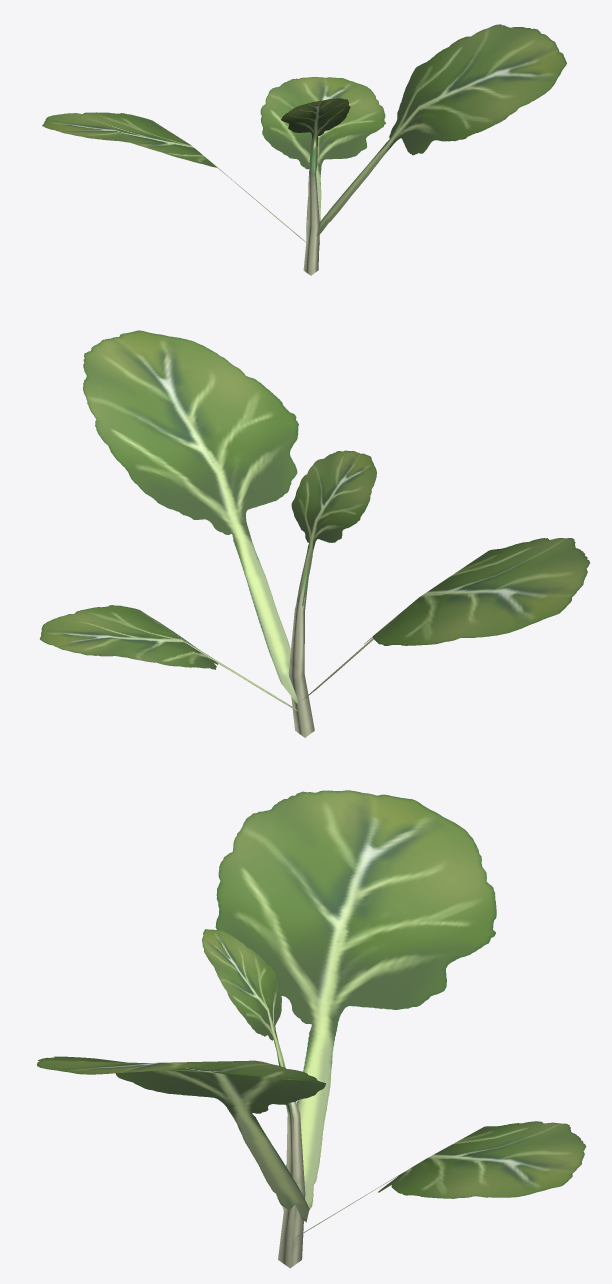
File: plant_cabbage_S1.fbx
The picture shows the model from 3 angles, top to bottom: view 1: azimuth 30°, elevation 25°; view 2: azimuth 150°, elevation 25°; view 3: azimuth 270°, elevation 25°; orthographic projection. The views are drawn at different scales.
Visible parts, largest first — view 1: plant_cabbage_S1; view 2: plant_cabbage_S1; view 3: plant_cabbage_S1.
Part boxes in pixels (x1,y1,x2,y2): plant_cabbage_S1: (42,24,566,275); plant_cabbage_S1: (40,330,589,737); plant_cabbage_S1: (37,790,586,1268).
Bounding box in the file's own units: 43.06 × 18.99 × 28.32.
